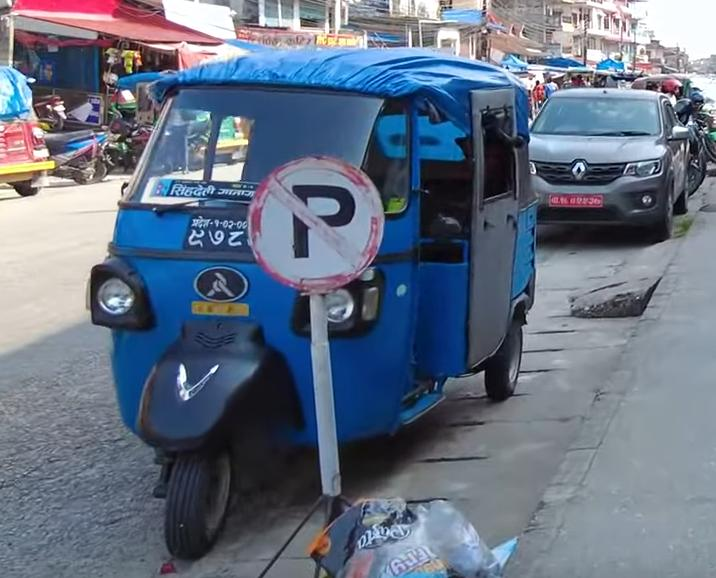auto_rickshaw: (75, 42, 543, 564), (0, 62, 55, 206)
car: (522, 82, 695, 250)
scooter: (32, 127, 113, 186)
